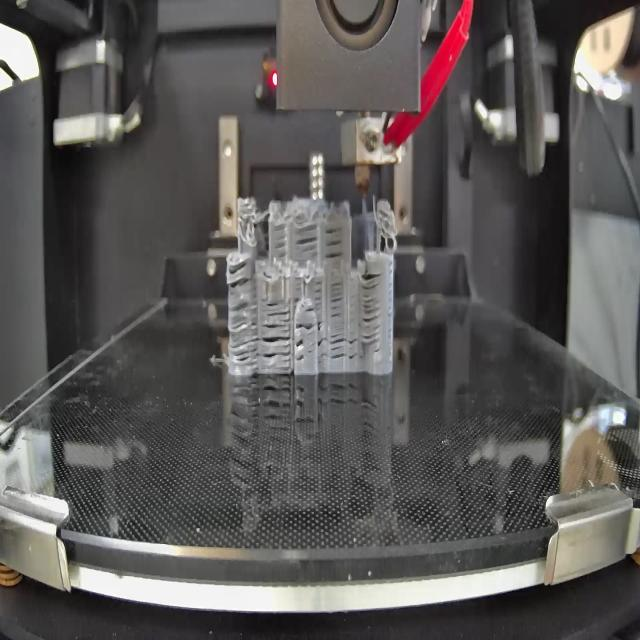cracks: (228, 303, 260, 363), (359, 272, 382, 344), (262, 321, 292, 371), (294, 221, 318, 258), (228, 254, 250, 290), (324, 224, 344, 260), (330, 336, 358, 359), (317, 320, 329, 362), (331, 277, 342, 322), (265, 296, 289, 316), (274, 221, 288, 253), (291, 276, 303, 302), (294, 338, 306, 364), (312, 279, 324, 302), (294, 322, 317, 332), (303, 304, 318, 314)
